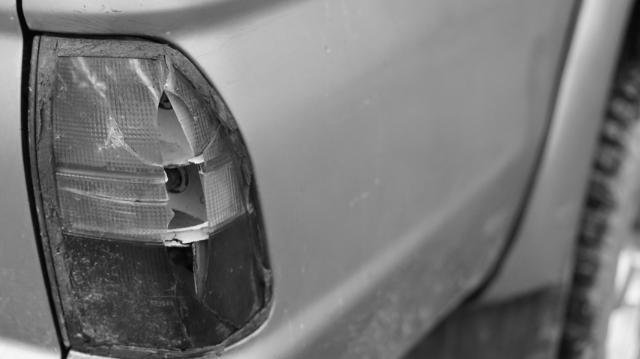Light: (23, 29, 280, 341)
